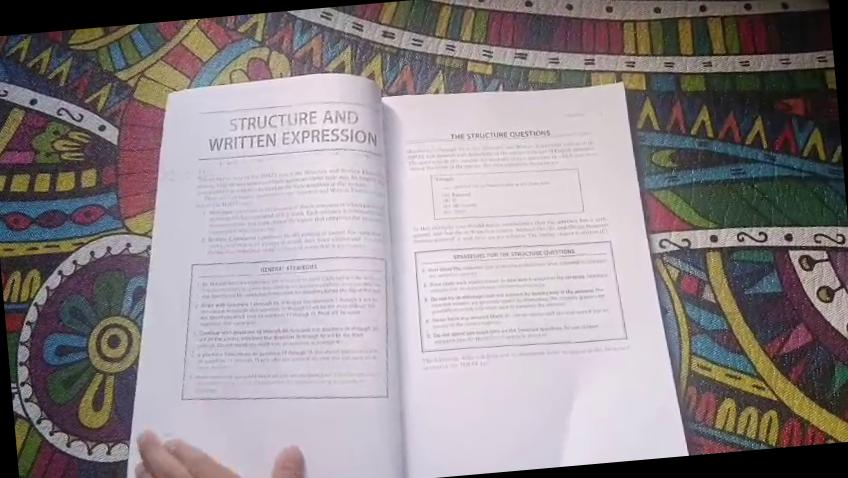Kertas: (95, 66, 416, 478), (378, 70, 686, 478)
